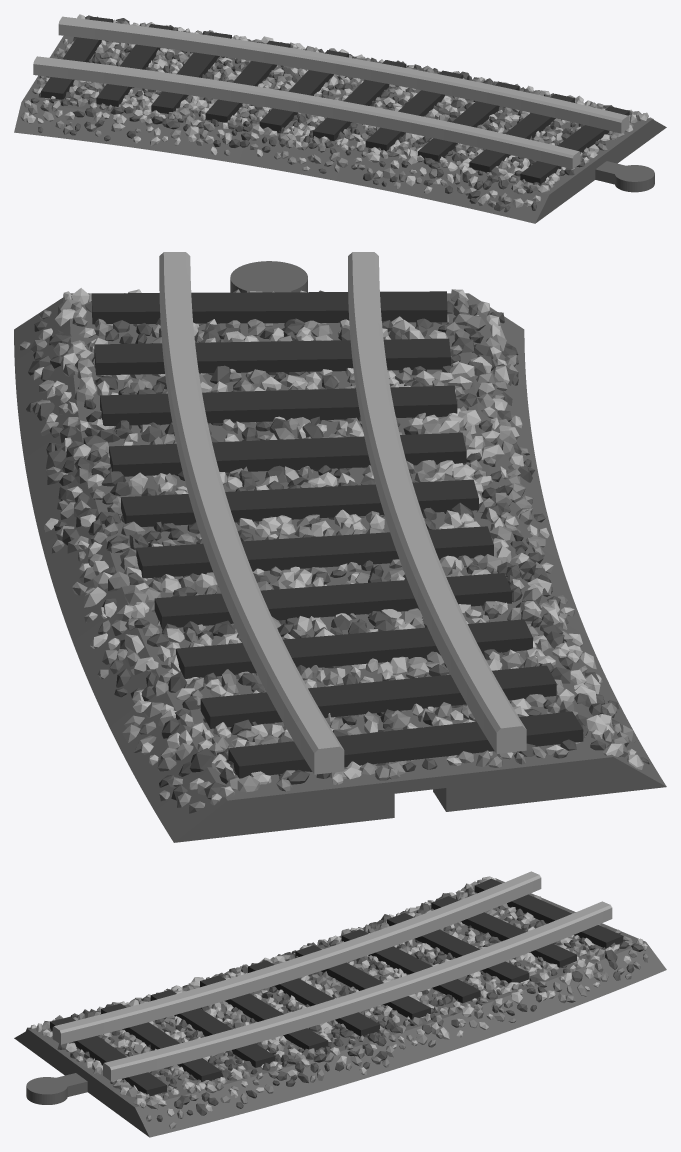
File: Rail_Right_45_60.obj
3 renders of one model, top to bottom at view 1: azimuth 30°, elevation 25°; view 2: azimuth 150°, elevation 25°; view 3: azimuth 270°, elevation 25°, orthographic. The views are drawn at different scales.
Visible parts, largest first — view 1: Rail_Right_45_60; view 2: Rail_Right_45_60; view 3: Rail_Right_45_60.
Boxes of the visible parts, box(x1,y1,x2,y2) form: Rail_Right_45_60: box(14, 14, 666, 223); Rail_Right_45_60: box(14, 252, 666, 842); Rail_Right_45_60: box(14, 871, 666, 1137).
Size of the model in its own units: 0.9975 by 0.0812 by 1.11.
1 material, 1 textured.
